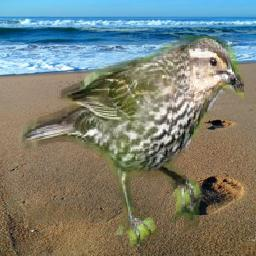Sparrow: (20, 36, 245, 246)
